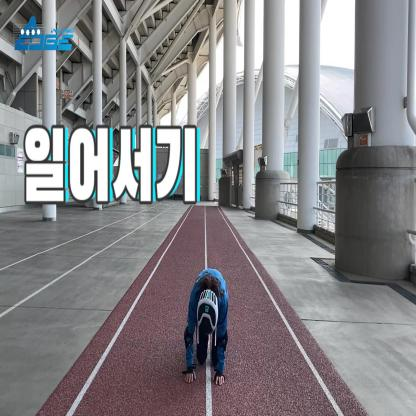Fall_Down: (185, 267, 228, 387)
